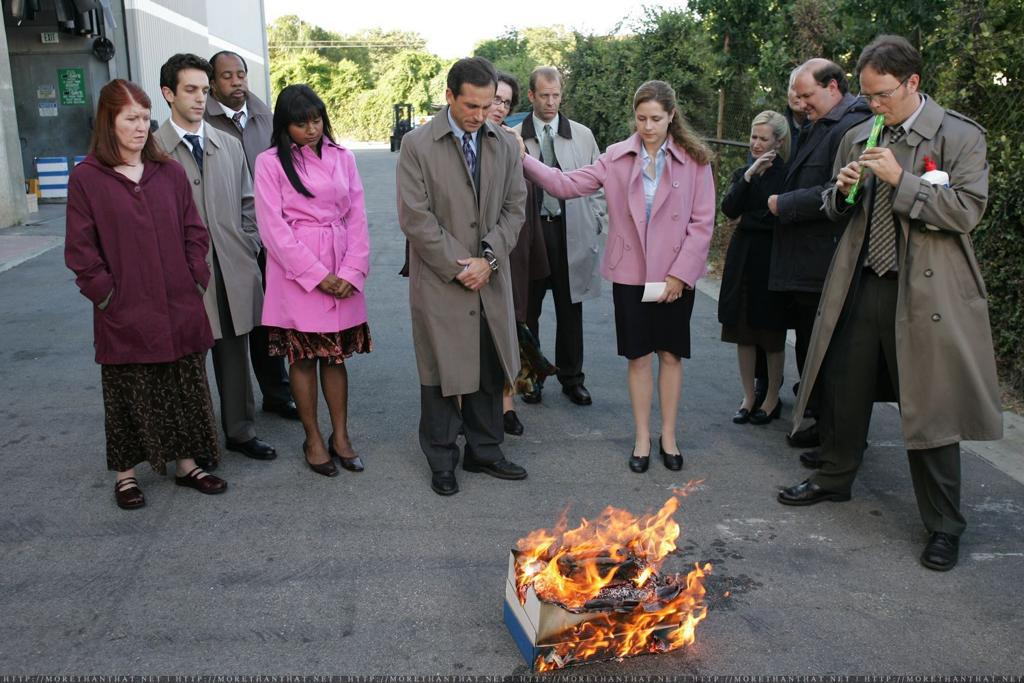face: (861, 73, 909, 126), (173, 71, 210, 121), (453, 89, 494, 132), (114, 106, 152, 152), (795, 79, 829, 121), (636, 101, 668, 142), (216, 59, 247, 101), (288, 108, 322, 146), (486, 85, 511, 131), (534, 84, 561, 119), (790, 78, 815, 110), (751, 126, 775, 157)
